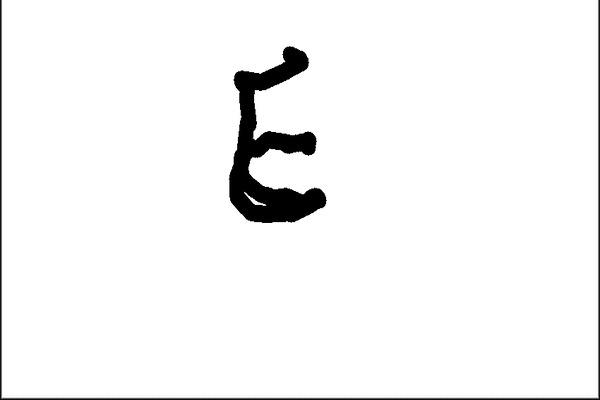E: (224, 43, 331, 228)
